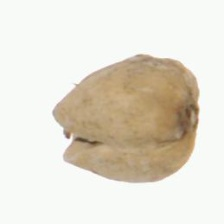L1: (50, 107, 98, 161), (186, 85, 200, 151)
L2: (52, 54, 200, 184)
